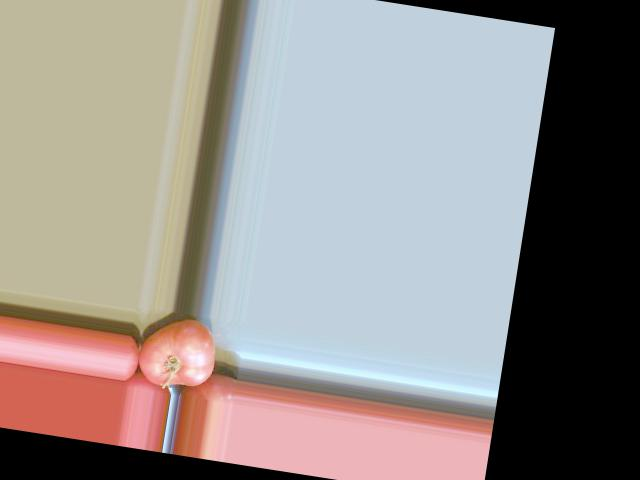tomato: (135, 312, 220, 392)
